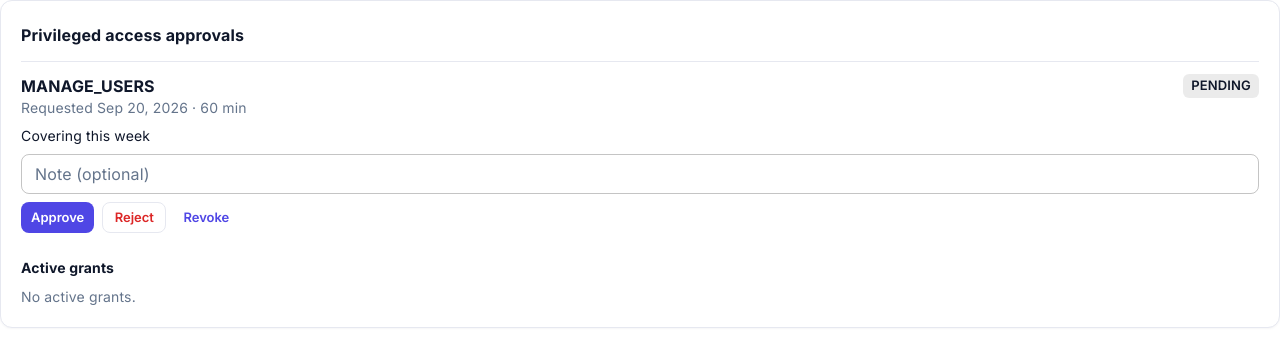
Test: OrganizationPrivilegedAccessCard › approves a pending request with a note and reloads
Step 1. Type "ok for coverage" into the field labelled "Note (optional)" → (640, 174), box [21,154,1259,194]
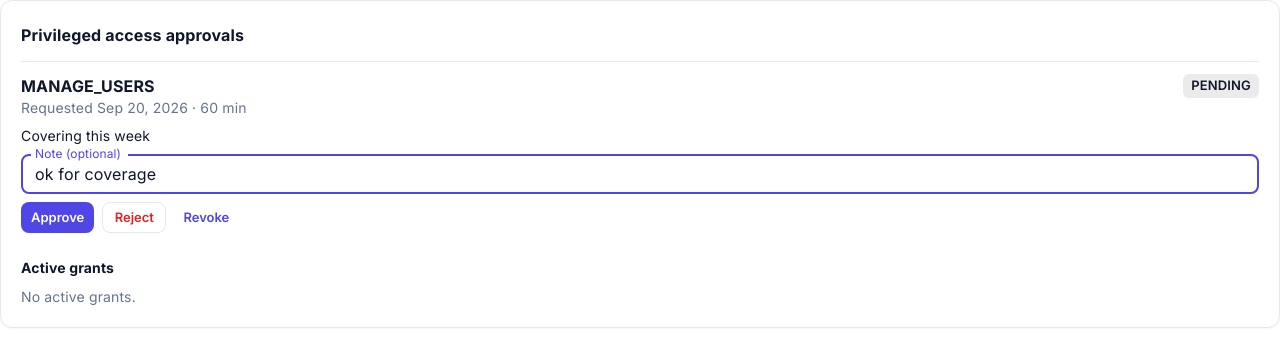
Step 2. Click the button "Approve" → (58, 217), box [21,202,94,233]
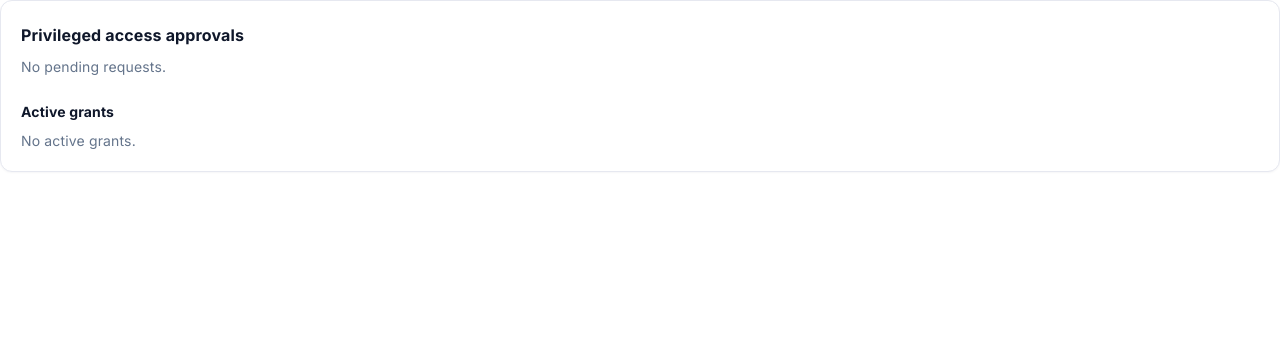
Expected: the text "No pending requests." is shown, [21,58,166,75]
